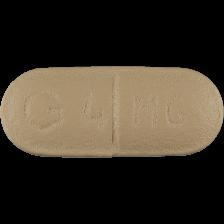54868-5638: (0, 0, 224, 224)
